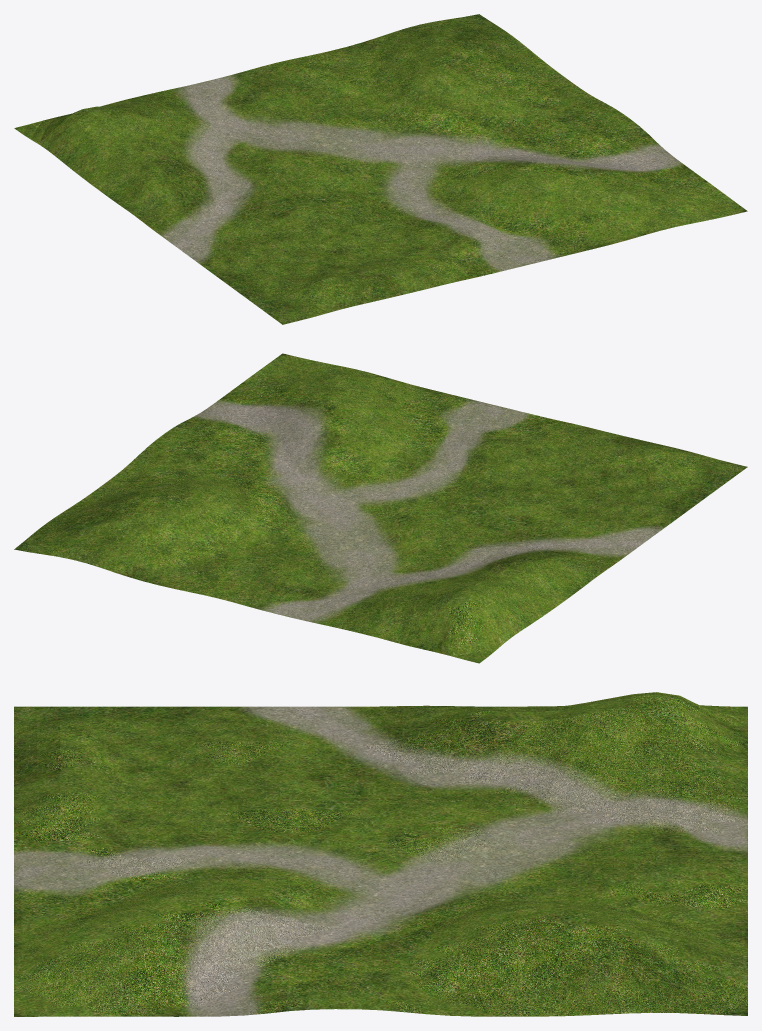
The model's file is ground.fbx.
3 views of the same model, one above another, from view 1: azimuth 30°, elevation 25°; view 2: azimuth 150°, elevation 25°; view 3: azimuth 270°, elevation 25° (orthographic). The views are drawn at different scales.
Parts seen in each view (by area): view 1: Plane; view 2: Plane; view 3: Plane.
Boxes of the visible parts, bbox=[...] form: Plane: bbox=[14, 14, 747, 324]; Plane: bbox=[14, 353, 747, 663]; Plane: bbox=[14, 692, 747, 1016].
Size of the model in its own units: 15.83 by 0.9731 by 15.82.
